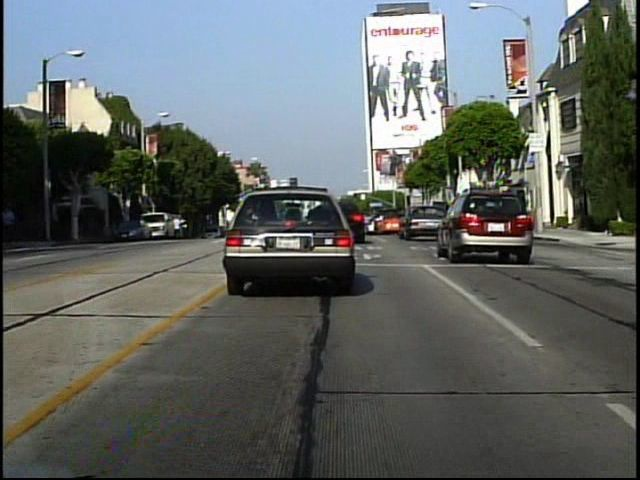person: (4, 202, 24, 252), (171, 212, 183, 242)
